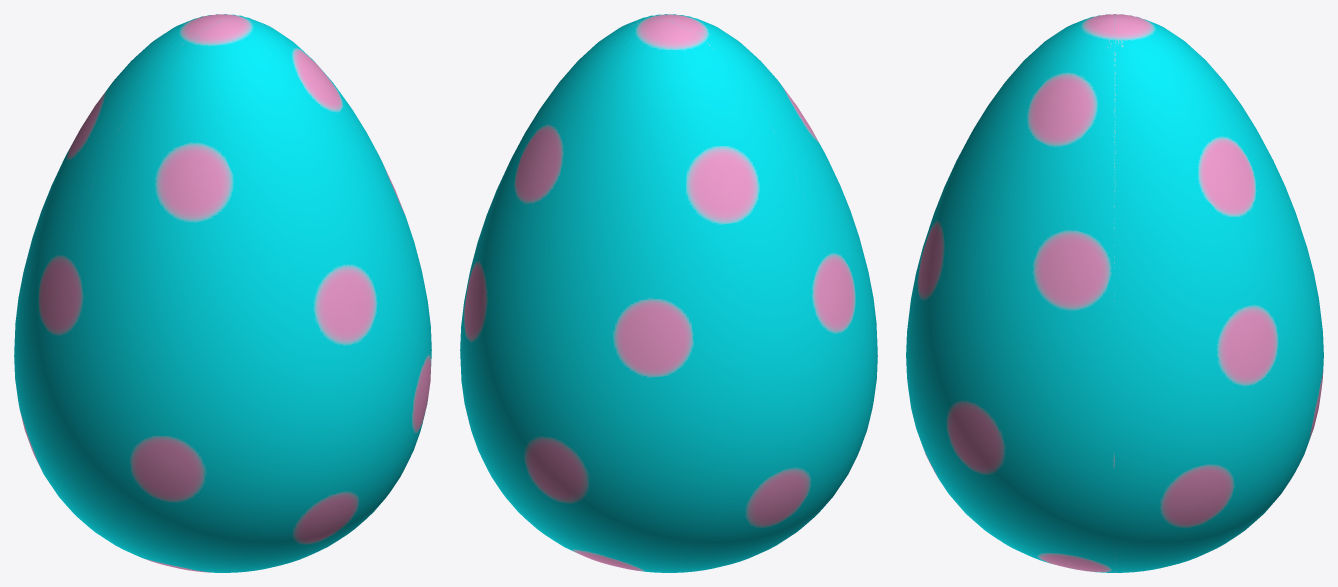
The model's file is Egg_Easter.FBX.
3 renders of one model, left to right at view 1: azimuth 30°, elevation 25°; view 2: azimuth 150°, elevation 25°; view 3: azimuth 270°, elevation 25°, orthographic.
Parts seen in each view (by area): view 1: Sphere002; view 2: Sphere002; view 3: Sphere002.
Boxes of the visible parts, x1=… form: Sphere002: x1=14, y1=14, x2=431, y2=572; Sphere002: x1=460, y1=14, x2=877, y2=572; Sphere002: x1=906, y1=14, x2=1323, y2=572.
Bounding box in the file's own units: 55.49 × 55.49 × 77.76.
Materials: 1 (1 with a texture image).
